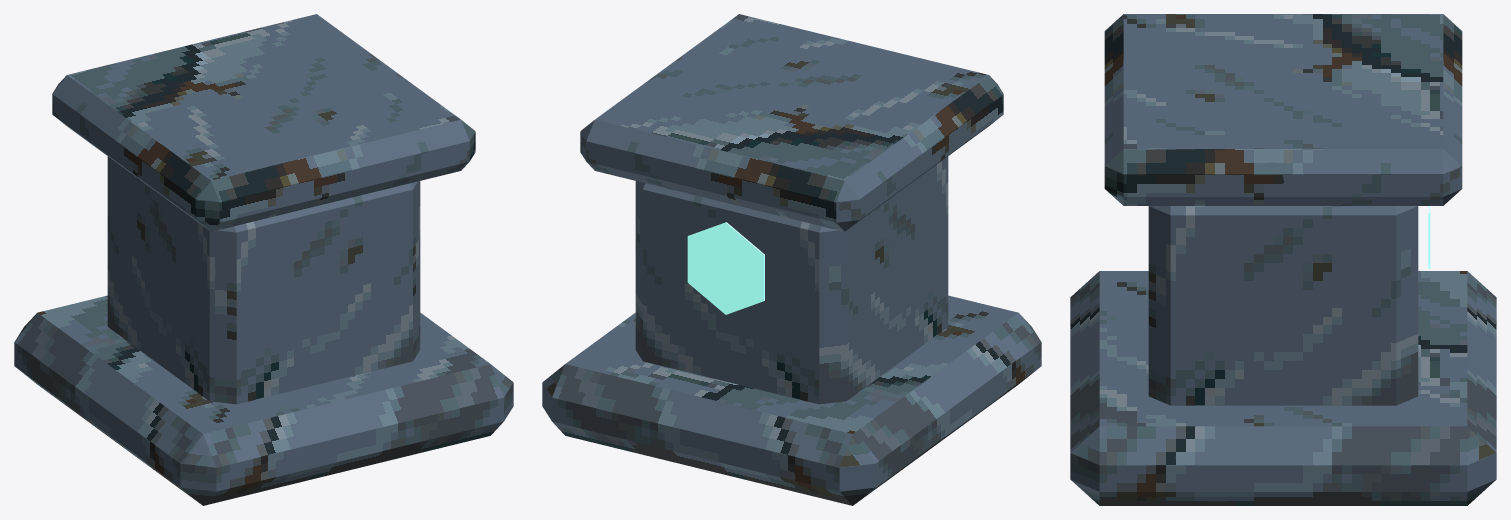
Rendered from totem_dominio.fbx.
3 views of the same model, side by side, from view 1: azimuth 30°, elevation 25°; view 2: azimuth 150°, elevation 25°; view 3: azimuth 270°, elevation 25° (orthographic). The views are drawn at different scales.
Visible parts, largest first — view 1: pedreira_totem_dominio; view 2: pedreira_totem_dominio; view 3: pedreira_totem_dominio.
Boxes of the visible parts, box(x1,y1,x2,y2) form: pedreira_totem_dominio: box(14, 14, 513, 505); pedreira_totem_dominio: box(542, 14, 1041, 505); pedreira_totem_dominio: box(1070, 14, 1496, 505).
Size of the model in its own units: 68 by 61 by 68.
2 materials, 1 textured.
